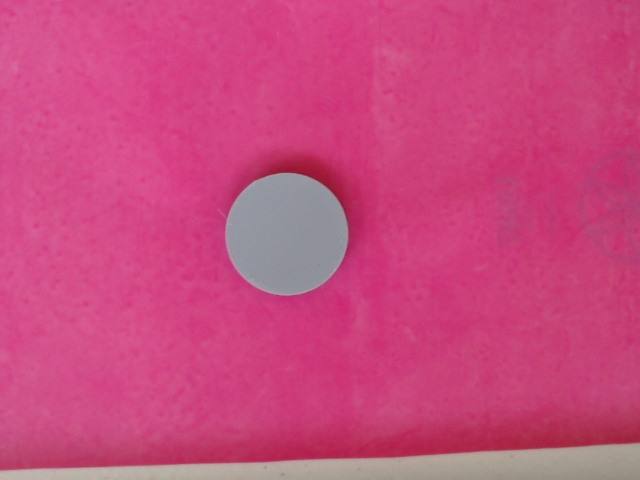NonDefective: (222, 171, 358, 298)
